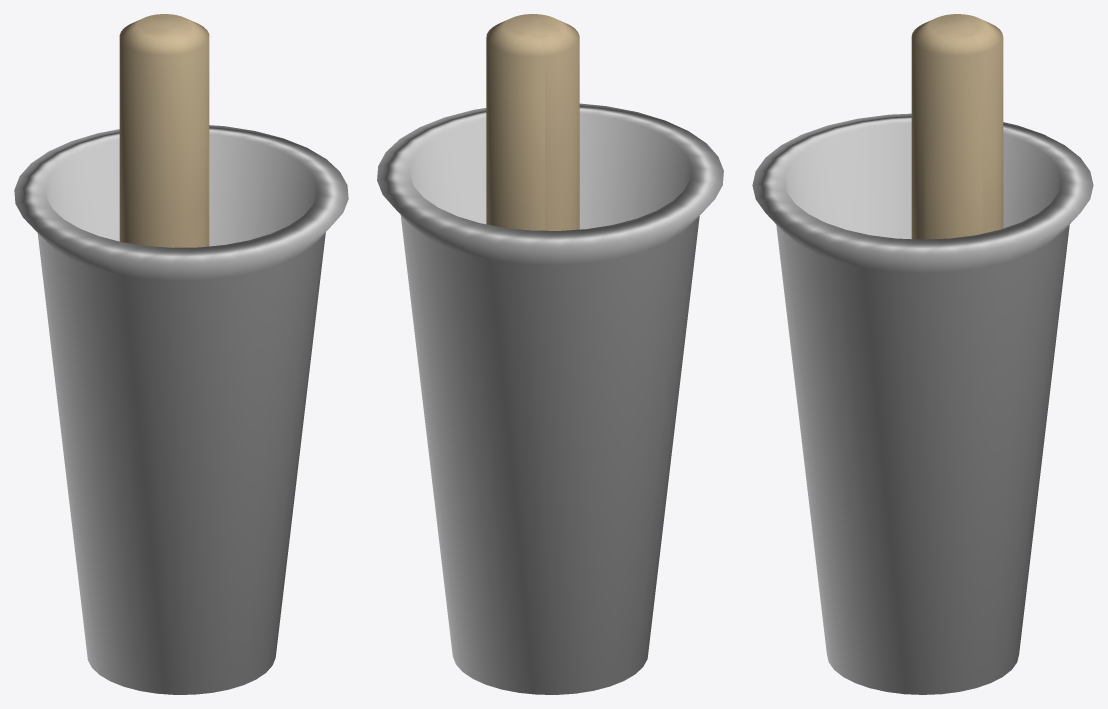
The model's file is PlungerCont.fbx.
3 views of the same model, side by side, from view 1: azimuth 30°, elevation 25°; view 2: azimuth 150°, elevation 25°; view 3: azimuth 270°, elevation 25° (orthographic). The views are drawn at different scales.
Parts seen in each view (by area): view 1: Cylinder.003; view 2: Cylinder.003; view 3: Cylinder.003.
Part boxes in pixels (bbox=[...]): Cylinder.003: bbox=[14, 14, 348, 694]; Cylinder.003: bbox=[377, 14, 723, 694]; Cylinder.003: bbox=[752, 14, 1093, 694].
Size of the model in its own units: 47.8 by 97.14 by 47.8.
